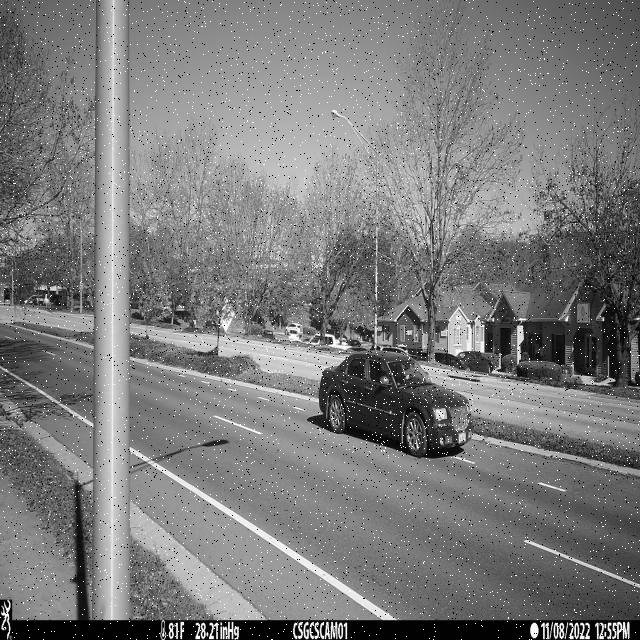Sedan: (318, 351, 474, 458)
